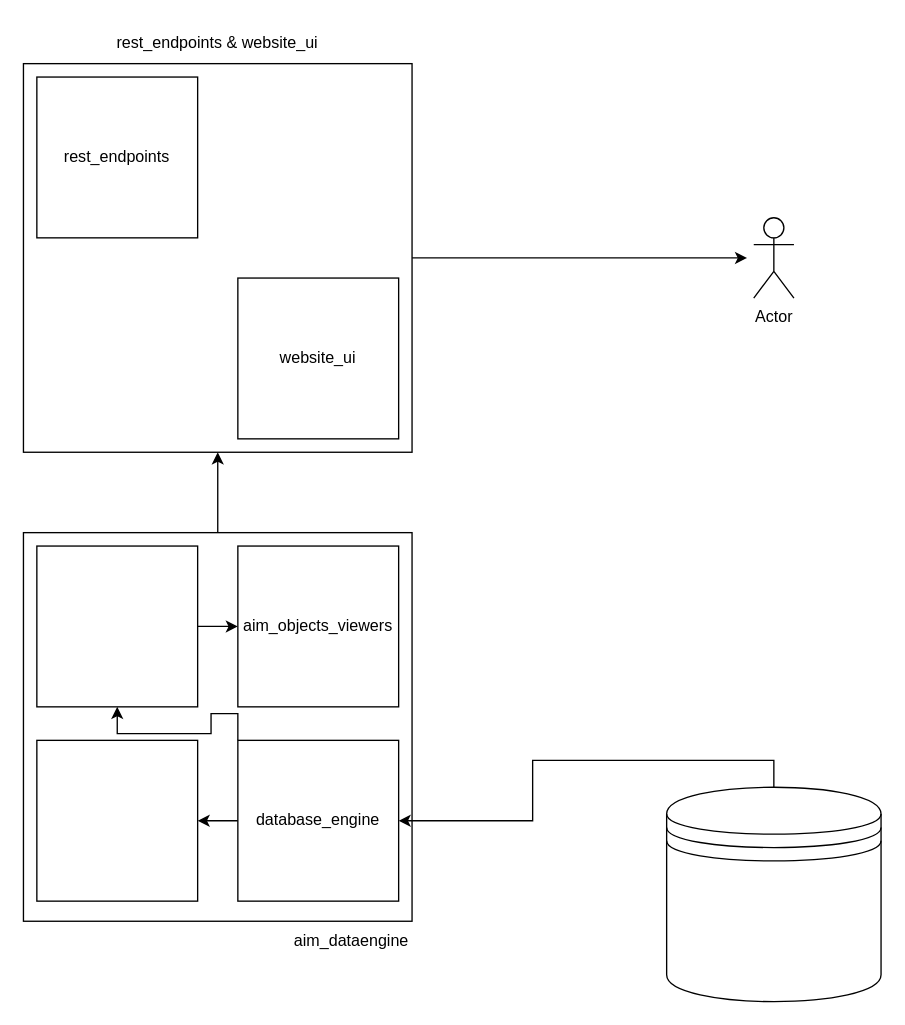
Some shapes in this 905 by 1025 pixel diagram are drawn without their labels. The shapes that lost their labels are listed below. From the top down, each one's box as (x1, y1, x2, y2) in pixels, then its label:
(36, 545, 198, 707): aim_objects
(36, 739, 198, 901): aim_terminal_engine
(665, 786, 881, 1002): mongodb
